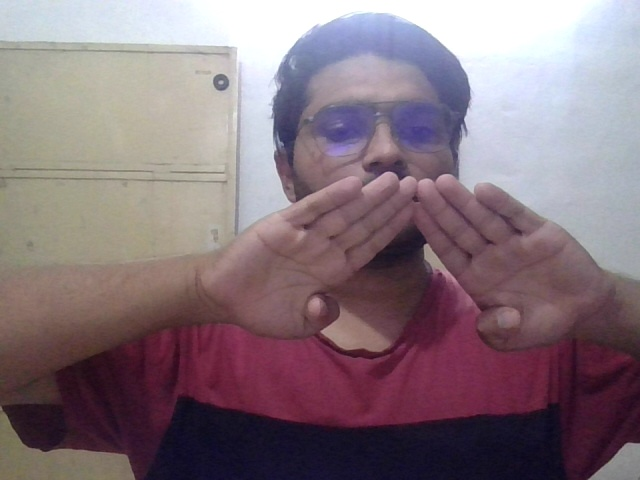thankyou: (220, 172, 600, 334)
